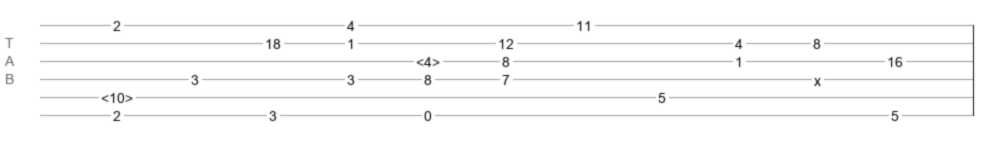0: (424, 108, 432, 118)
1: (347, 36, 355, 46), (735, 54, 743, 64)
11: (576, 18, 592, 28)
12: (498, 36, 514, 46)
16: (887, 54, 903, 64)
18: (265, 36, 281, 46)
2: (113, 18, 121, 28), (113, 108, 121, 118)
3: (191, 72, 199, 82), (269, 108, 277, 118), (347, 72, 355, 82)
4: (347, 18, 355, 28), (735, 36, 743, 46)
5: (658, 90, 666, 100), (891, 108, 899, 118)
7: (502, 72, 510, 82)
8: (424, 72, 432, 82), (502, 54, 510, 64), (813, 36, 821, 46)
harmonic: (101, 90, 133, 100), (416, 54, 440, 64)
x: (814, 73, 821, 81)
